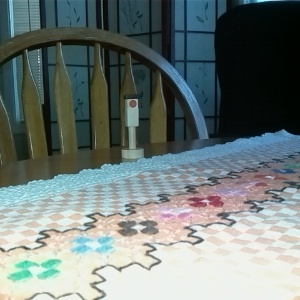traffic light red: (119, 91, 146, 162)
